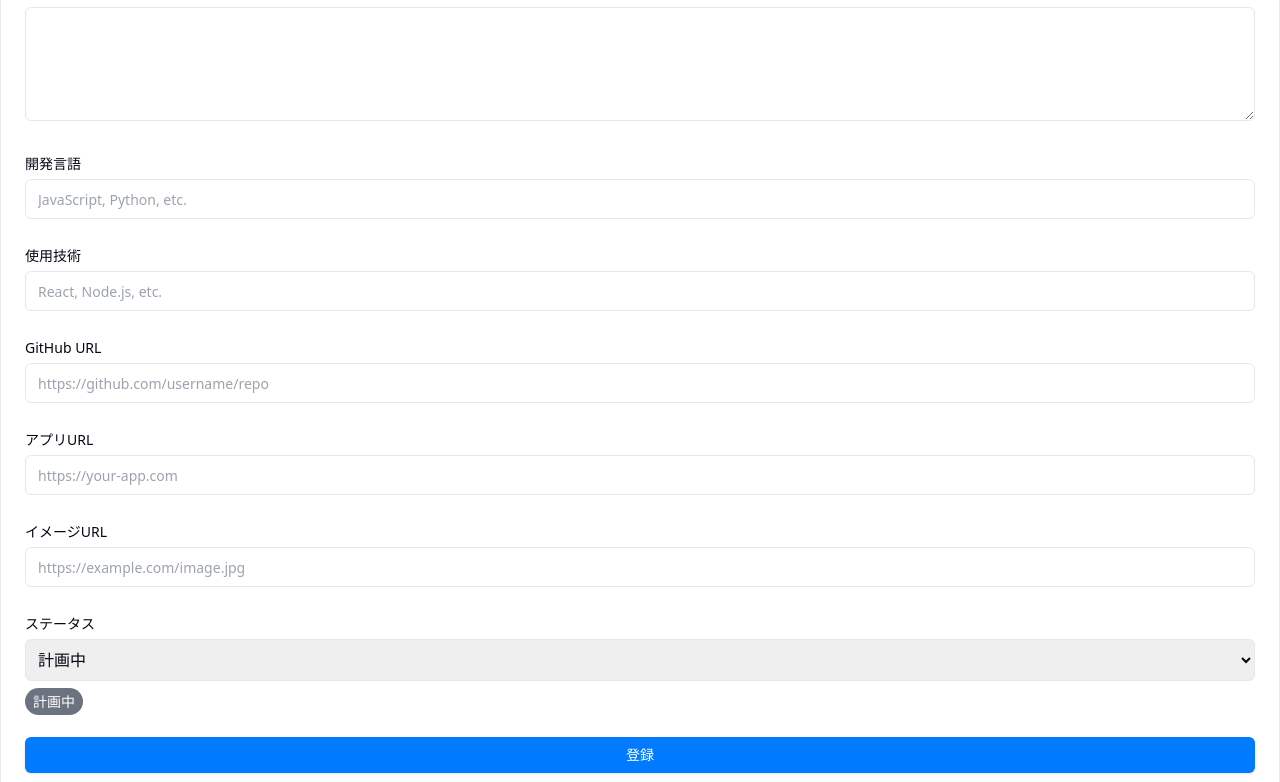
Scenario: AppForm › 必須フィールドのバリデーションが機能すること
The width and height of the screenshot is (1280, 782).
(page scrolled)
Note:  空の状態で送信
Click the button "登録". click: (640, 755)
box: [25, 737, 1255, 773]
(page scrolled)
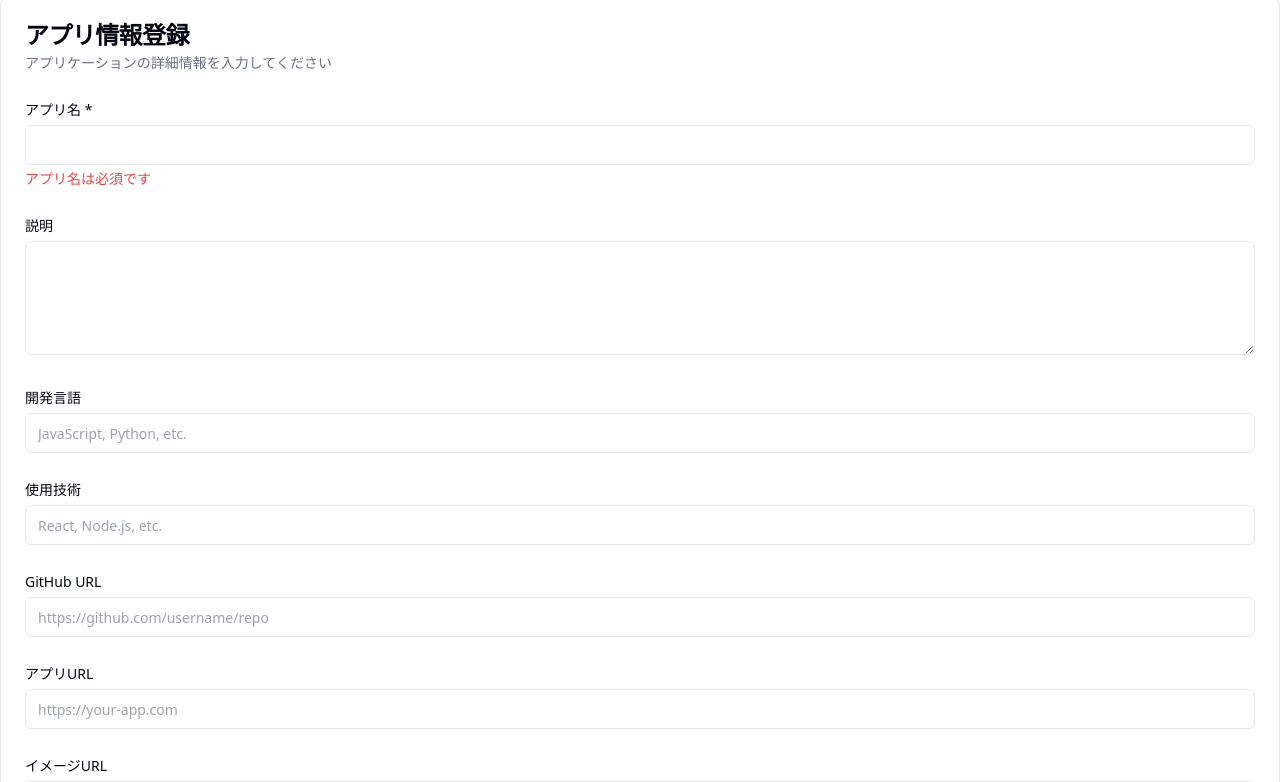
Check: the text "アプリ名は必須です" is shown, box [25, 169, 151, 188]
